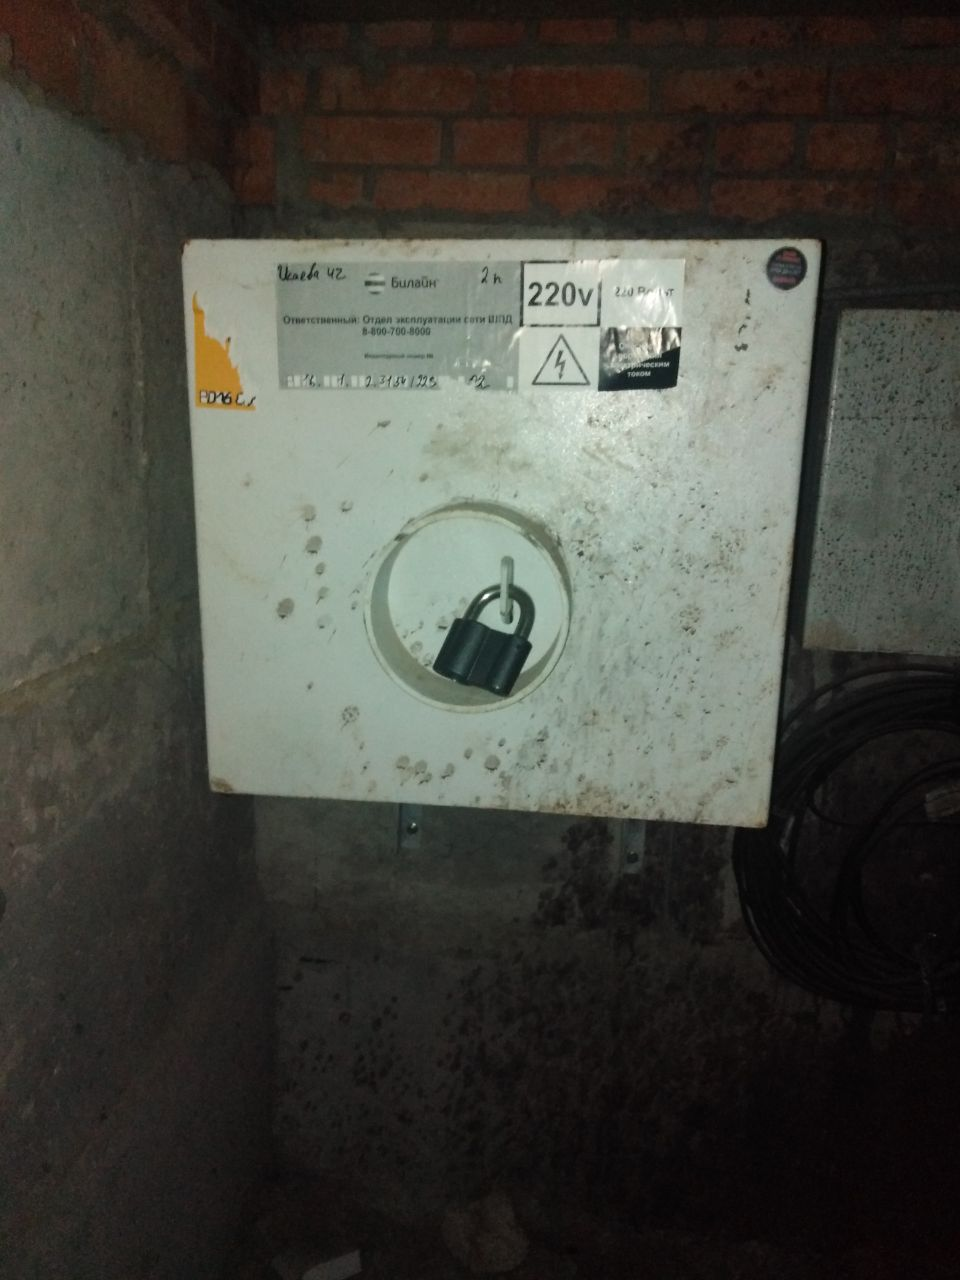shta-9: (166, 220, 834, 848)
